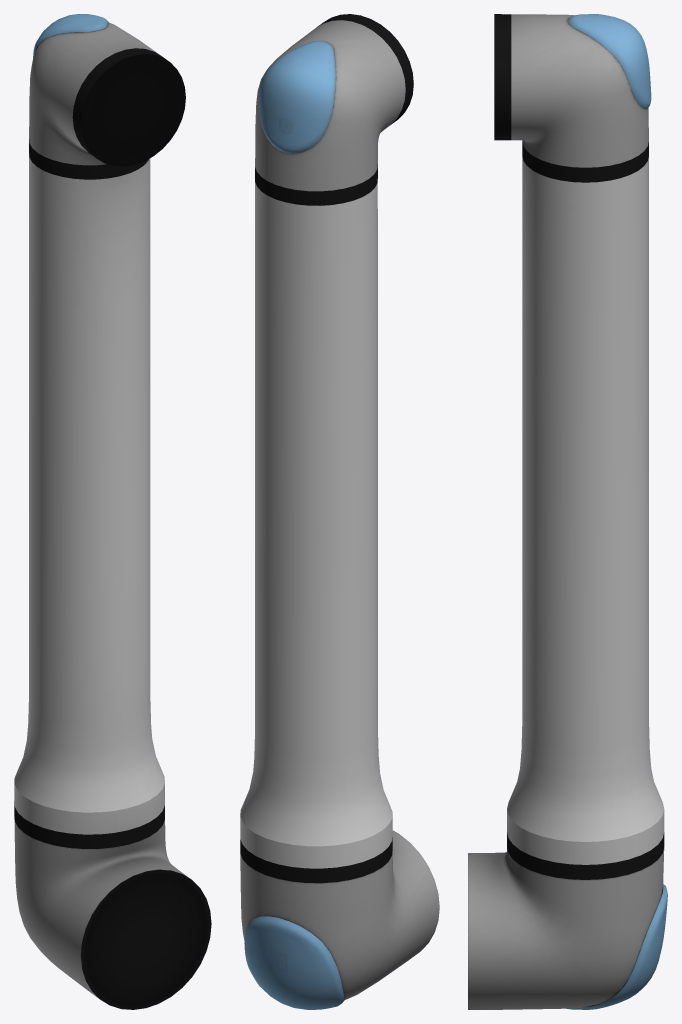
Rendered from upperarm.dae.
3 views of the same model, side by side, from view 1: azimuth 30°, elevation 25°; view 2: azimuth 150°, elevation 25°; view 3: azimuth 270°, elevation 25° (orthographic). The views are drawn at different scales.
Parts seen in each view (by area): view 1: shoulder_002, shoulder_pad_003; view 2: shoulder_002, shoulder_pad_003, shoulder_pad_004; view 3: shoulder_002, shoulder_pad_003, shoulder_pad_004.
Boxes of the visible parts, left/top/right/bottom form: shoulder_002: left=14, top=22, right=211, bottom=1009; shoulder_pad_003: left=33, top=14, right=108, bottom=57; shoulder_002: left=240, top=14, right=439, bottom=999; shoulder_pad_003: left=259, top=41, right=335, bottom=153; shoulder_pad_004: left=244, top=916, right=344, bottom=1009; shoulder_002: left=468, top=14, right=664, bottom=1009; shoulder_pad_003: left=567, top=14, right=651, bottom=108; shoulder_pad_004: left=566, top=884, right=667, bottom=1009.
Size of the model in its own units: 0.15 by 0.1907 by 1.04.
Materials: 4 (4 with a texture image).
